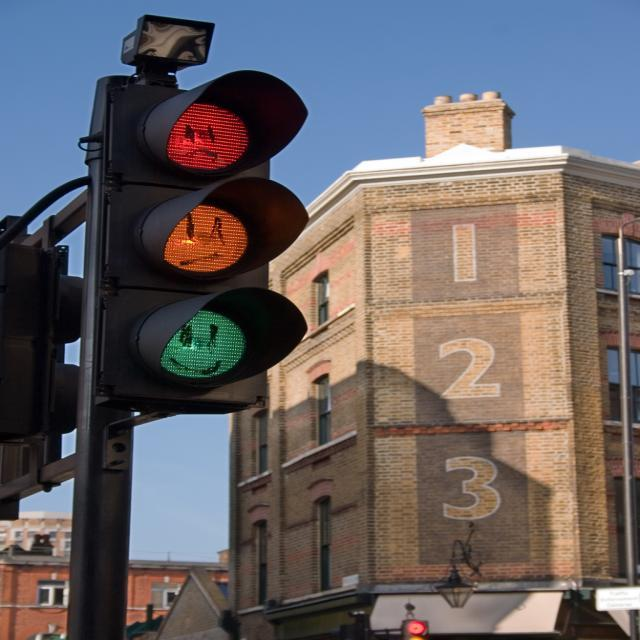traffic light: (105, 75, 294, 399)
